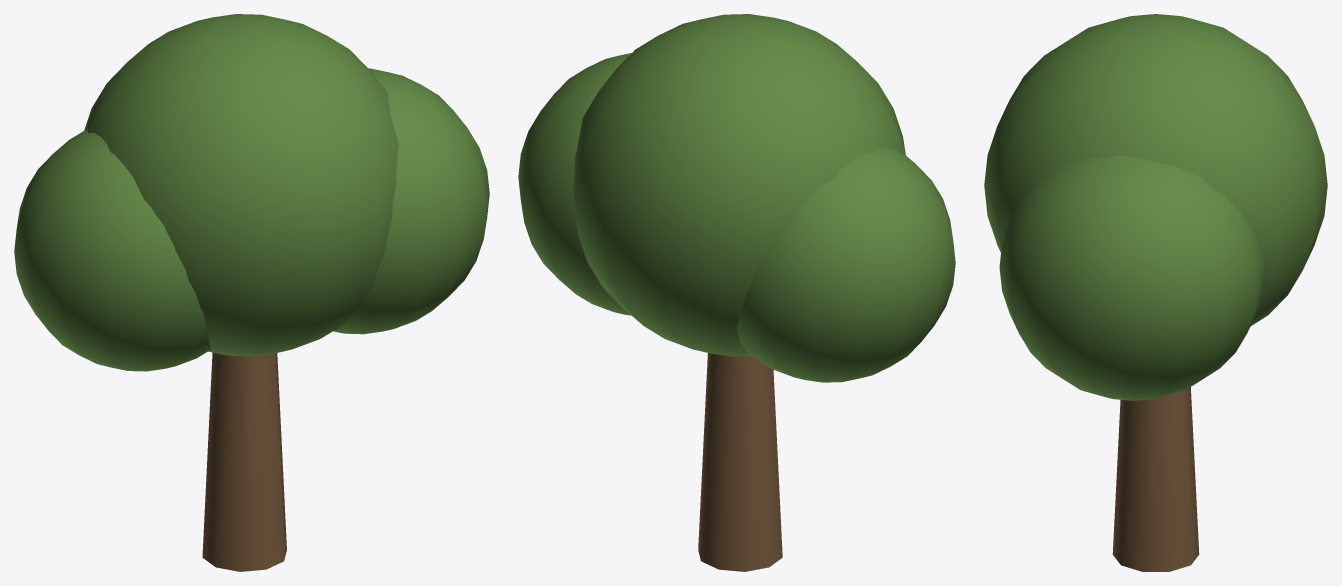
Rendered from prop-tree.gltf.
3 views of the same model, side by side, from view 1: azimuth 30°, elevation 25°; view 2: azimuth 150°, elevation 25°; view 3: azimuth 270°, elevation 25° (orthographic).
Bounding box in the file's own units: 3.85 × 4.55 × 2.7.
